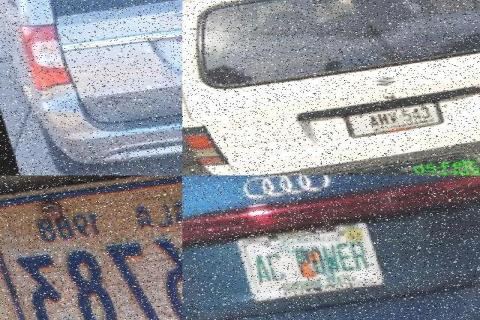LicensePlate: (4, 205, 183, 320), (234, 219, 385, 302), (349, 99, 447, 139)
